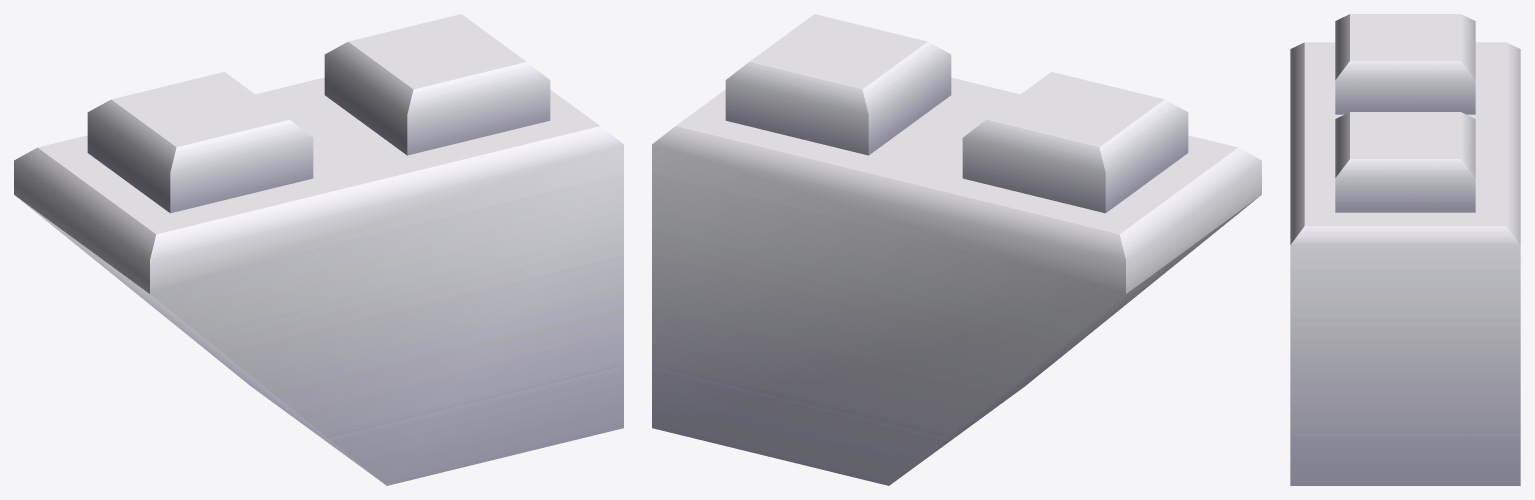
The model's file is square-hq-brick-slope-inverted-1x2.glb.
3 views of the same model, side by side, from view 1: azimuth 30°, elevation 25°; view 2: azimuth 150°, elevation 25°; view 3: azimuth 270°, elevation 25° (orthographic). The views are drawn at different scales.
Parts seen in each view (by area): view 1: square-hq-brick-slope-inverted-1x2; view 2: square-hq-brick-slope-inverted-1x2; view 3: square-hq-brick-slope-inverted-1x2.
Boxes of the visible parts, bbox=[...] form: square-hq-brick-slope-inverted-1x2: bbox=[14, 14, 623, 485]; square-hq-brick-slope-inverted-1x2: bbox=[652, 14, 1261, 485]; square-hq-brick-slope-inverted-1x2: bbox=[1290, 14, 1520, 485].
Bounding box in the file's own units: 0.159 × 0.114 × 0.079.
1 material, 1 textured.
